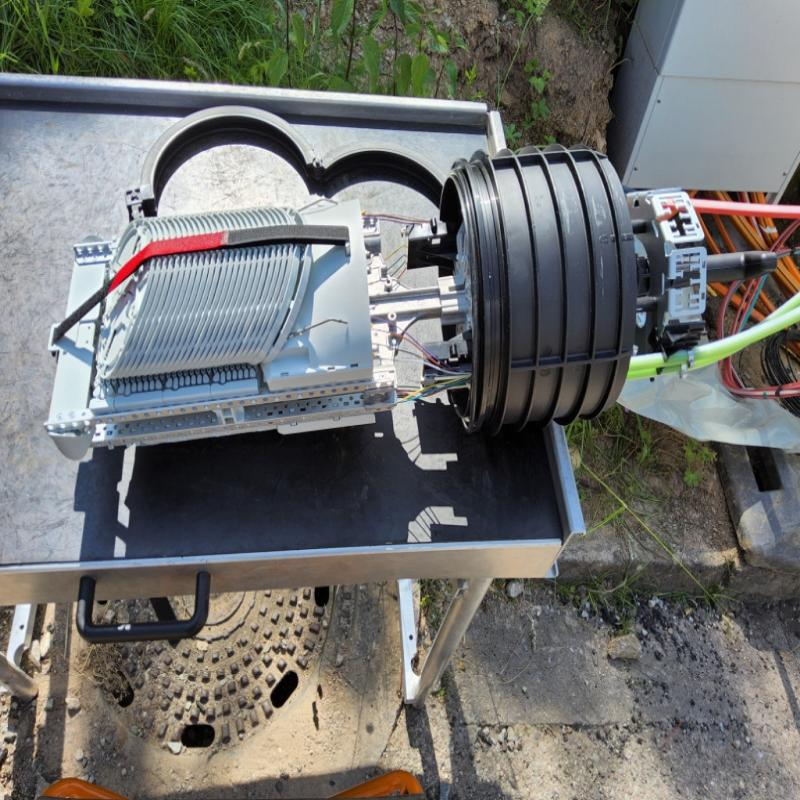NT-Muffen: (43, 141, 709, 454)
